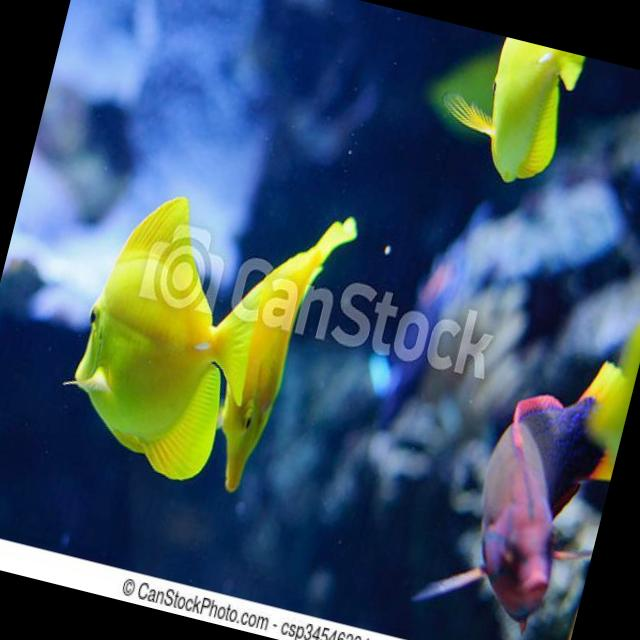TangFish: (51, 158, 360, 507)
